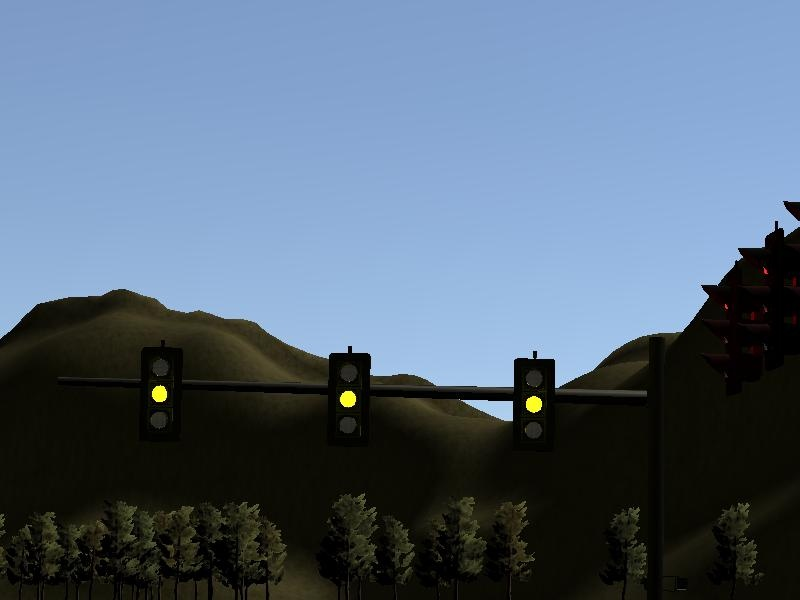yellow: (139, 344, 183, 444), (329, 353, 373, 453), (515, 355, 559, 455)
